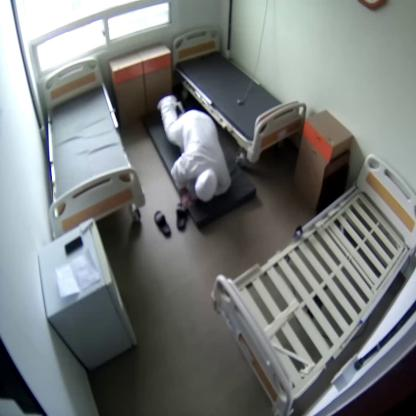Person: (158, 96, 228, 211)
